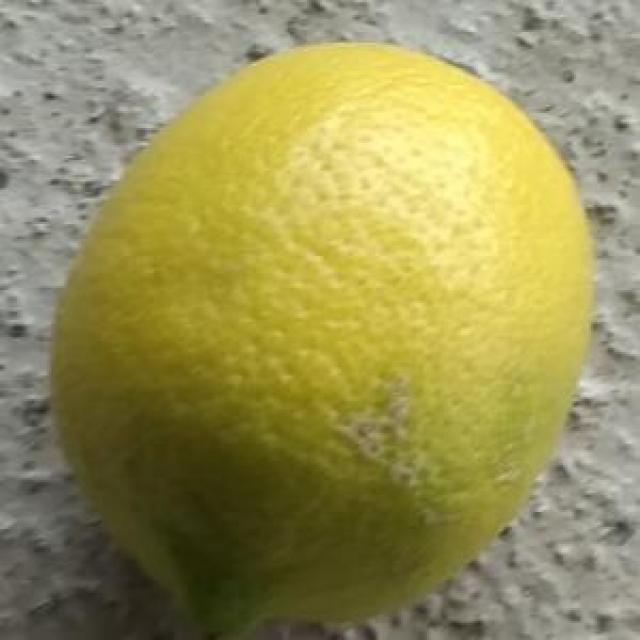lemon: (46, 34, 604, 640)
